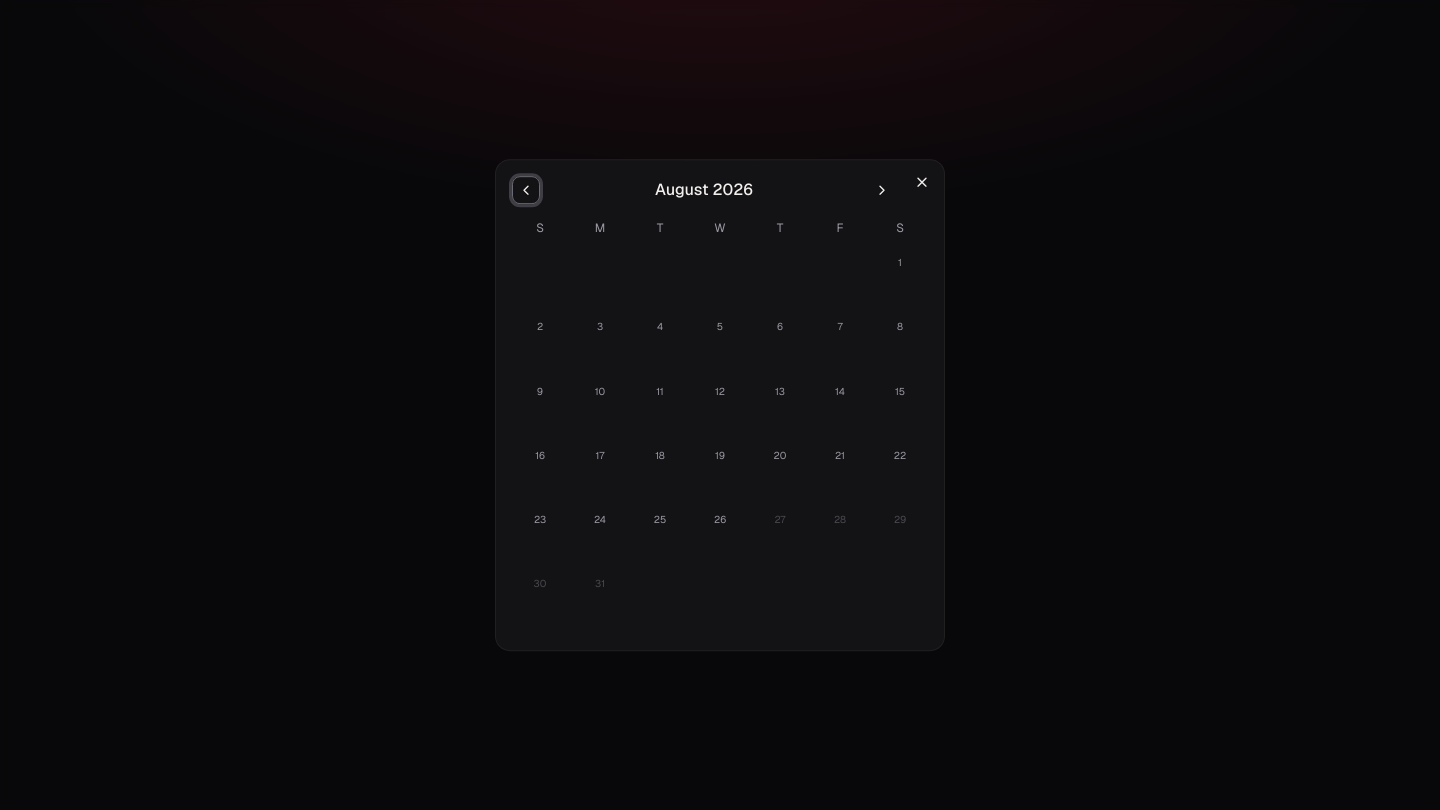
SalahCalendarDialog › navigates to the next month and refetches
Expected: the heading "August 2026" is shown, [655,182,753,198]
Click the button named "Next month": click(882, 190) [868,176,896,204]
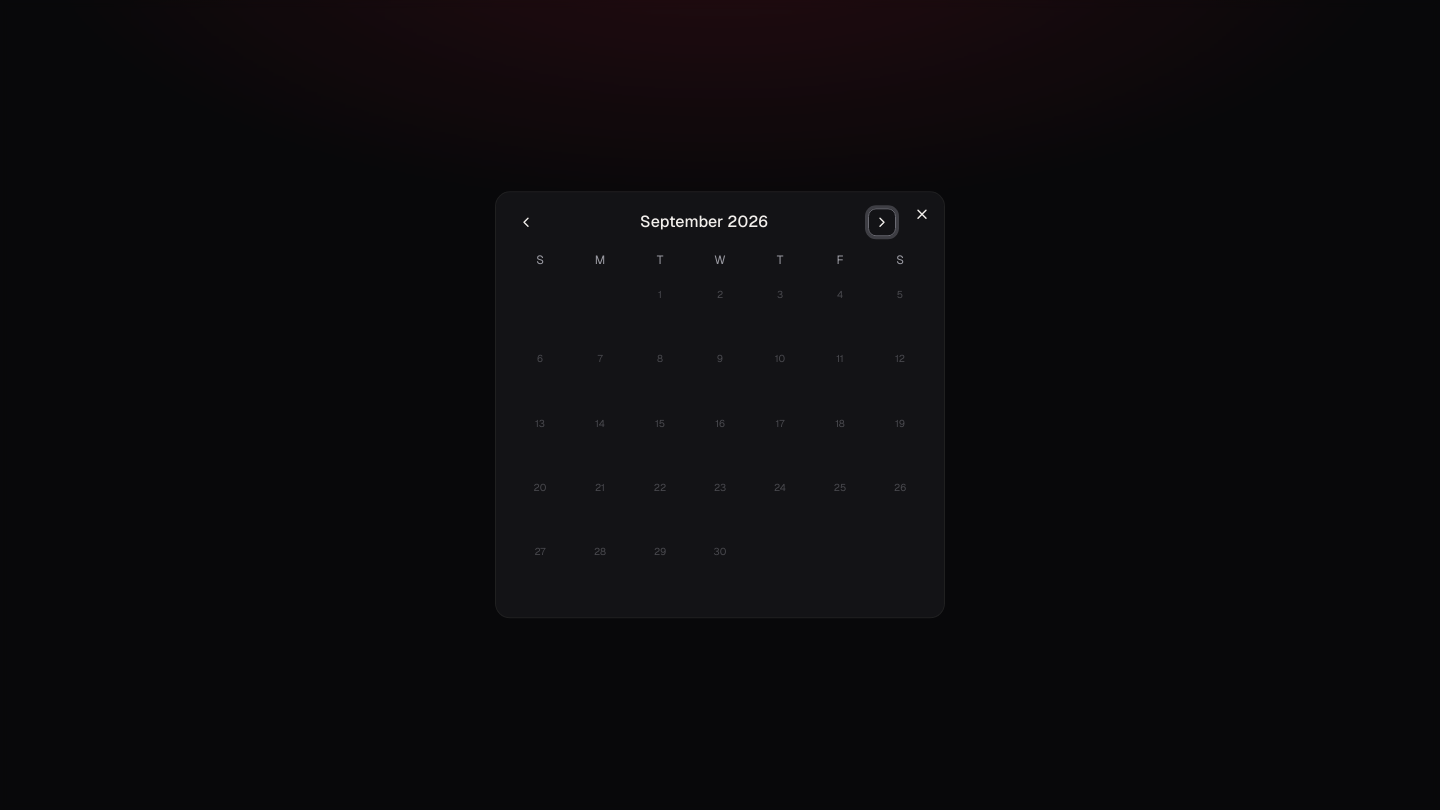
Result: the heading "September 2026" is shown at [640,214,768,230]
